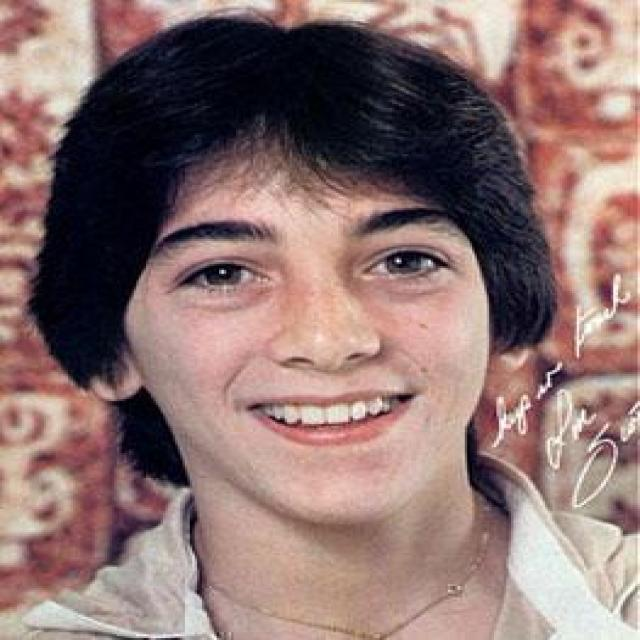0_rostro_limpio: (98, 114, 500, 532)
